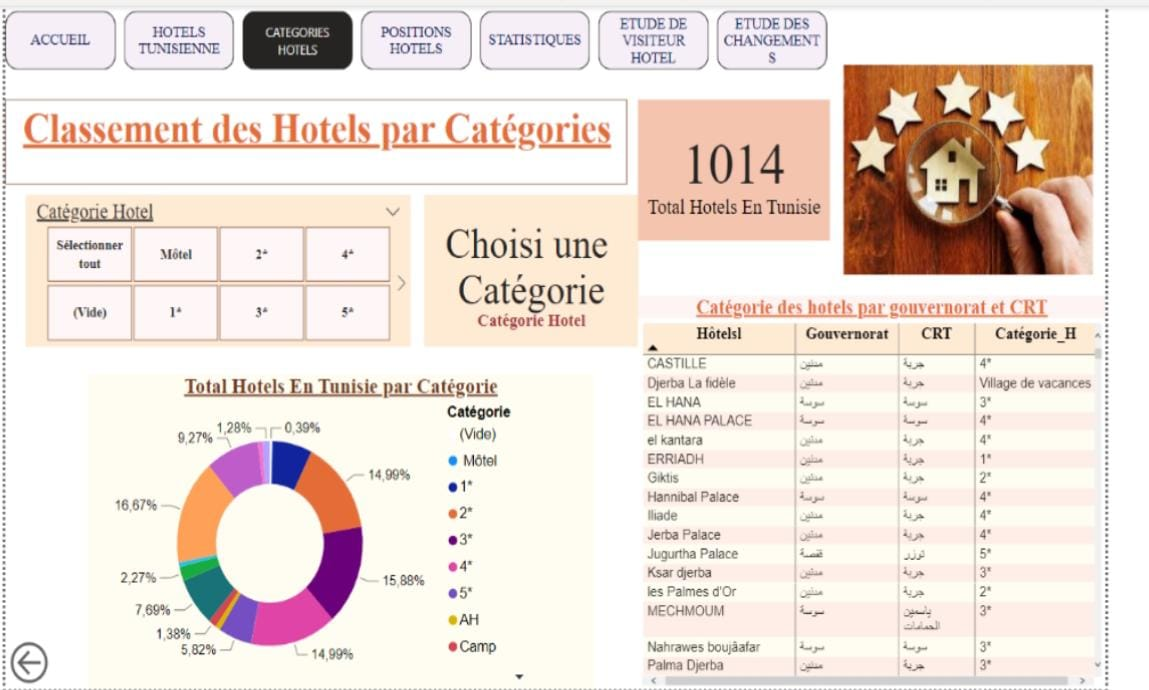

What the dashboard file says about the page in this screenshot:
{"tool":"powerbi","page":{"name":"CATEGORIES HOTELS","canvas":[1280,720],"ordinal":2},"visuals":[{"type":"donutChart","title":"Total Hotels En Tunisie par Catégorie","fields":{"Y":["HOTEL.Total Hotels En Tunisie"],"Series":["CATEGORIE HOTEL.Catégorie_H"]},"box":[95.5,388.3,588.9,331.7],"z":0},{"type":"pageNavigator","box":[0,6.5,959.6,61.5],"z":1000},{"type":"slicer","fields":{"Values":["CATEGORIE HOTEL.Catégorie_H"]},"box":[22.7,199,448.2,160.2],"z":2000},{"type":"card","fields":{"Values":["CATEGORIE HOTEL.Catégorie Choisi"]},"box":[487.1,199,249.2,160.2],"z":3000},{"type":"textbox","box":[0,98.7,723.3,89],"z":4000},{"type":"image","box":[959.6,56.6,320.4,231.4],"z":5000},{"type":"card","fields":{"Values":["HOTEL.Total Hotels En Tunisie"]},"box":[736.3,98.7,223.3,148.9],"z":6000},{"type":"tableEx","title":"Catégorie des hotels par gouvernorat et CRT","fields":{"Values":["HOTEL.Hôtelsl","GOUVERNORAT.Gouvernorat","CRT.CRT","CATEGORIE HOTEL.Catégorie_H"]},"box":[735.5,304.8,544.5,415.5],"z":7000},{"type":"actionButton","box":[0,665.1,56.6,55],"z":8000}]}

Visuals, with their boxes on the page's 1280x720 design canvas (x1, y1, x2, y2). These are canvas units, not pixel positions in the 1149x690 screenshot, which may show the page scaled, cropped or inside an application window:
"Total Hotels En Tunisie par Catégorie" donutChart: select_region(96, 388, 684, 720)
pageNavigator: select_region(0, 6, 960, 68)
slicer - CATEGORIE HOTEL.Catégorie_H: select_region(23, 199, 471, 359)
card - CATEGORIE HOTEL.Catégorie Choisi: select_region(487, 199, 736, 359)
textbox: select_region(0, 99, 723, 188)
image: select_region(960, 57, 1280, 288)
card - HOTEL.Total Hotels En Tunisie: select_region(736, 99, 960, 248)
"Catégorie des hotels par gouvernorat et CRT" tableEx: select_region(736, 305, 1280, 720)
actionButton: select_region(0, 665, 57, 720)
